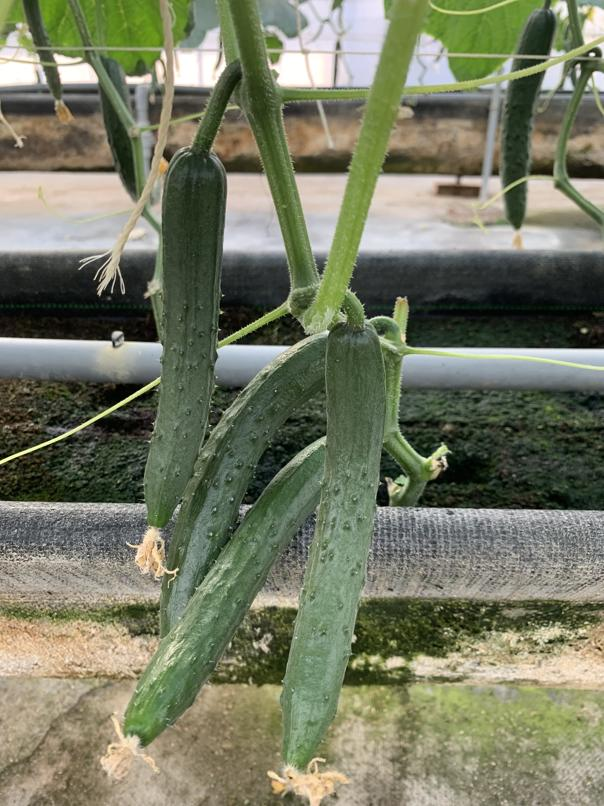bench: (110, 288, 603, 793)
